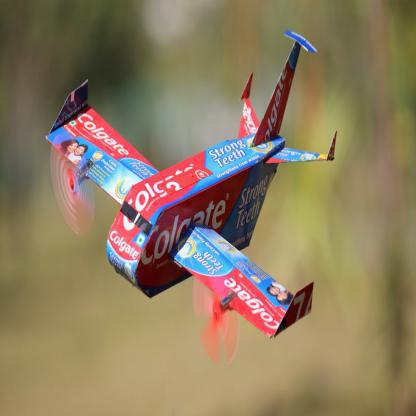CIV_Plane: (38, 25, 342, 367)
